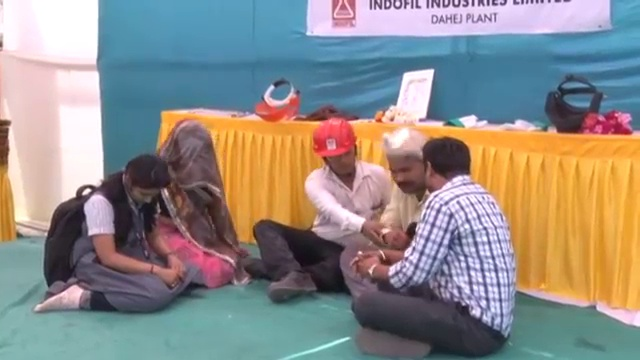helmet: (313, 118, 358, 160)
helmet_off: (420, 135, 474, 201), (163, 121, 215, 188), (115, 155, 175, 206), (384, 126, 427, 195)
helmet_on: (311, 120, 363, 180)
person: (352, 136, 517, 359), (234, 118, 391, 293), (38, 155, 188, 316), (141, 115, 245, 291), (341, 125, 432, 290)
